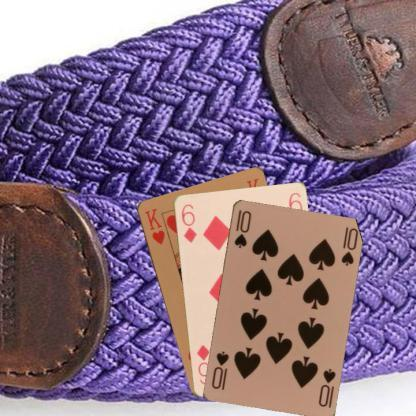10s: (315, 365, 337, 408), (232, 207, 252, 250)
6d: (178, 201, 198, 245)
Kh: (142, 206, 166, 246)
